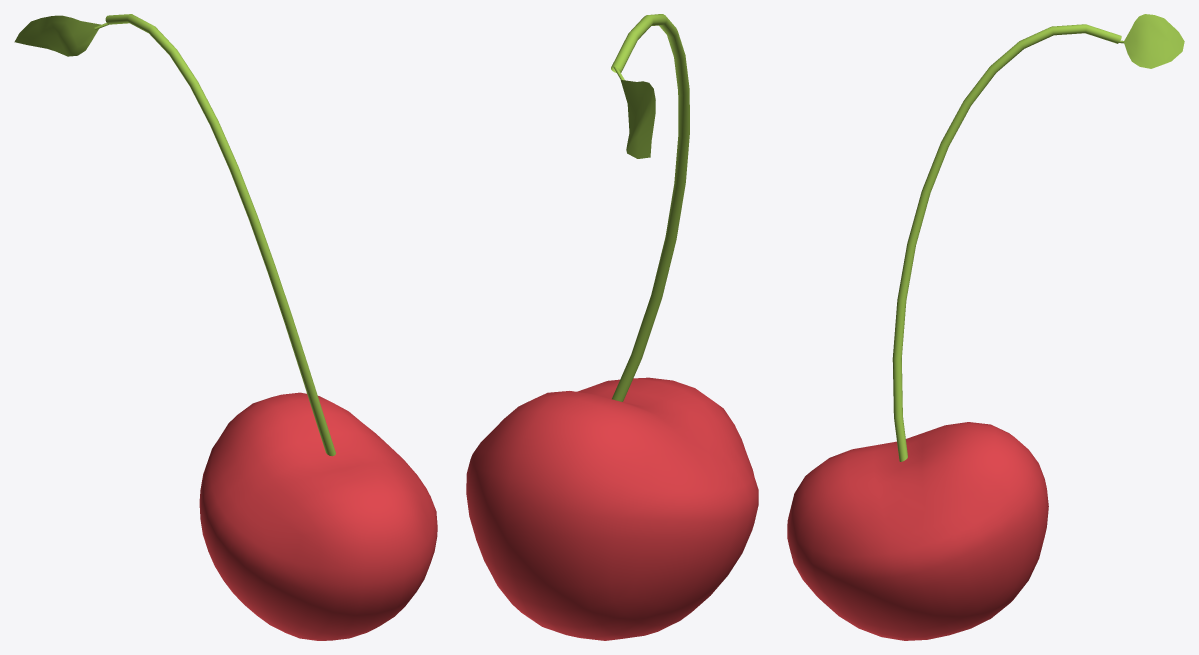
The model's file is Asset_cherry.fbx.
The picture shows the model from 3 angles, left to right: view 1: azimuth 30°, elevation 25°; view 2: azimuth 150°, elevation 25°; view 3: azimuth 270°, elevation 25°; orthographic projection. The views are drawn at different scales.
Parts seen in each view (by area): view 1: Roundcube.006, BezierCurve.002, BezierCurve.003|leaf|Dupli|39.001; view 2: Roundcube.006, BezierCurve.002, BezierCurve.003|leaf|Dupli|39.001; view 3: Roundcube.006, BezierCurve.002, BezierCurve.003|leaf|Dupli|39.001.
Boxes of the visible parts, left/top/right/bottom form: Roundcube.006: left=199, top=392, right=437, bottom=640; BezierCurve.002: left=105, top=14, right=335, bottom=456; BezierCurve.003|leaf|Dupli|39.001: left=14, top=15, right=108, bottom=56; Roundcube.006: left=466, top=377, right=758, bottom=640; BezierCurve.002: left=611, top=14, right=689, bottom=401; BezierCurve.003|leaf|Dupli|39.001: left=613, top=66, right=655, bottom=158; Roundcube.006: left=787, top=422, right=1048, bottom=640; BezierCurve.002: left=892, top=24, right=1121, bottom=461; BezierCurve.003|leaf|Dupli|39.001: left=1114, top=14, right=1184, bottom=68.
Bounding box in the file's own units: 42.47 × 86.51 × 55.8.
